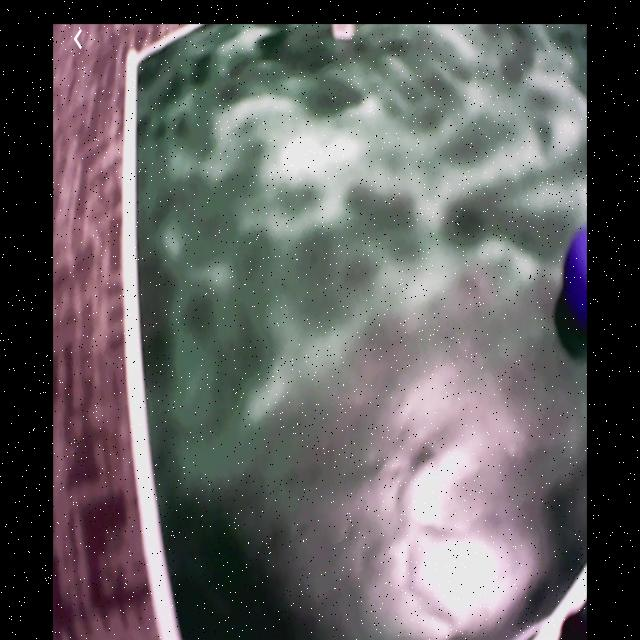ball: (563, 228, 589, 329)
